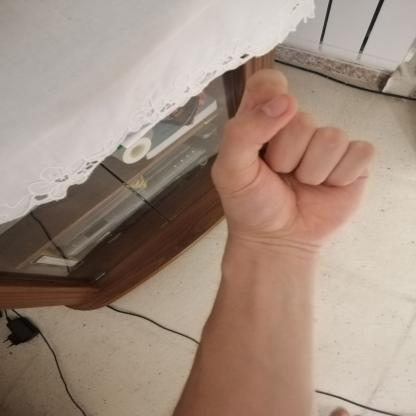FAA: (196, 57, 394, 259)
